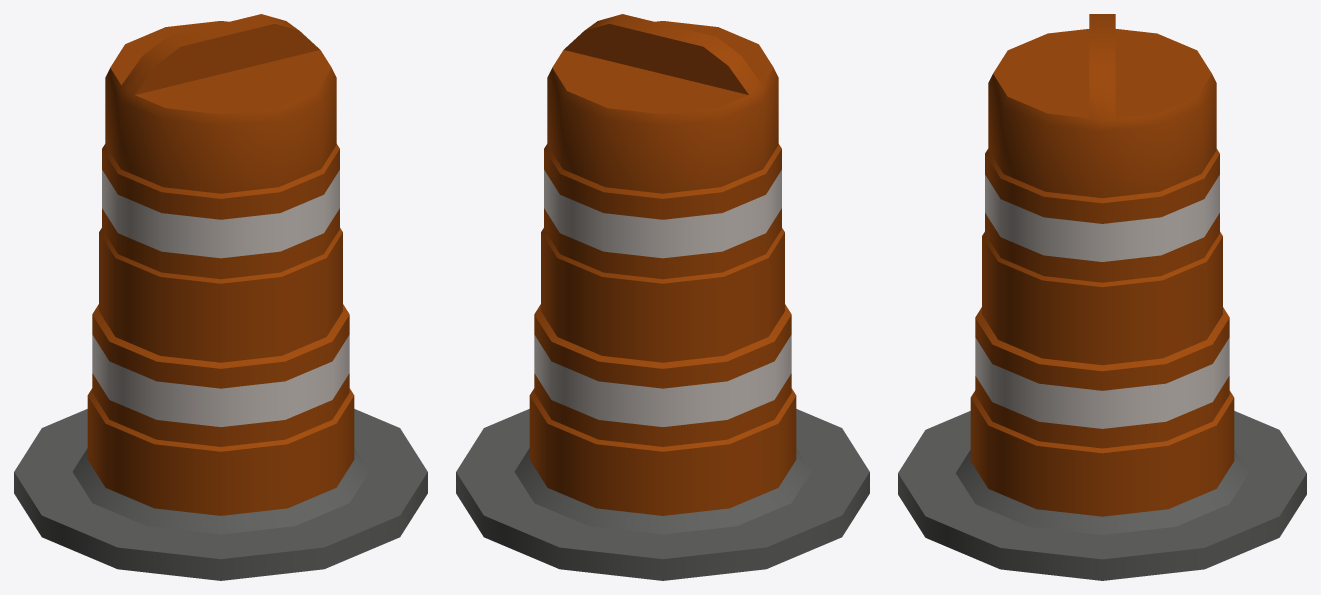
The picture shows the model from 3 angles, left to right: view 1: azimuth 30°, elevation 25°; view 2: azimuth 150°, elevation 25°; view 3: azimuth 270°, elevation 25°; orthographic projection.
Visible parts, largest first — view 1: TrafficCone_2; view 2: TrafficCone_2; view 3: TrafficCone_2.
Part boxes in pixels (<box>): TrafficCone_2: <box>14,14,427,580</box>; TrafficCone_2: <box>456,14,869,580</box>; TrafficCone_2: <box>898,14,1306,580</box>.
Size of the model in its own units: 0.5954 by 0.7356 by 0.5954.
Materials: 1 (1 with a texture image).
